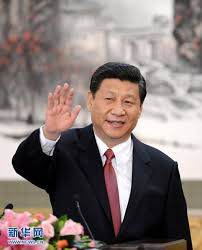palm: (44, 82, 82, 135)
